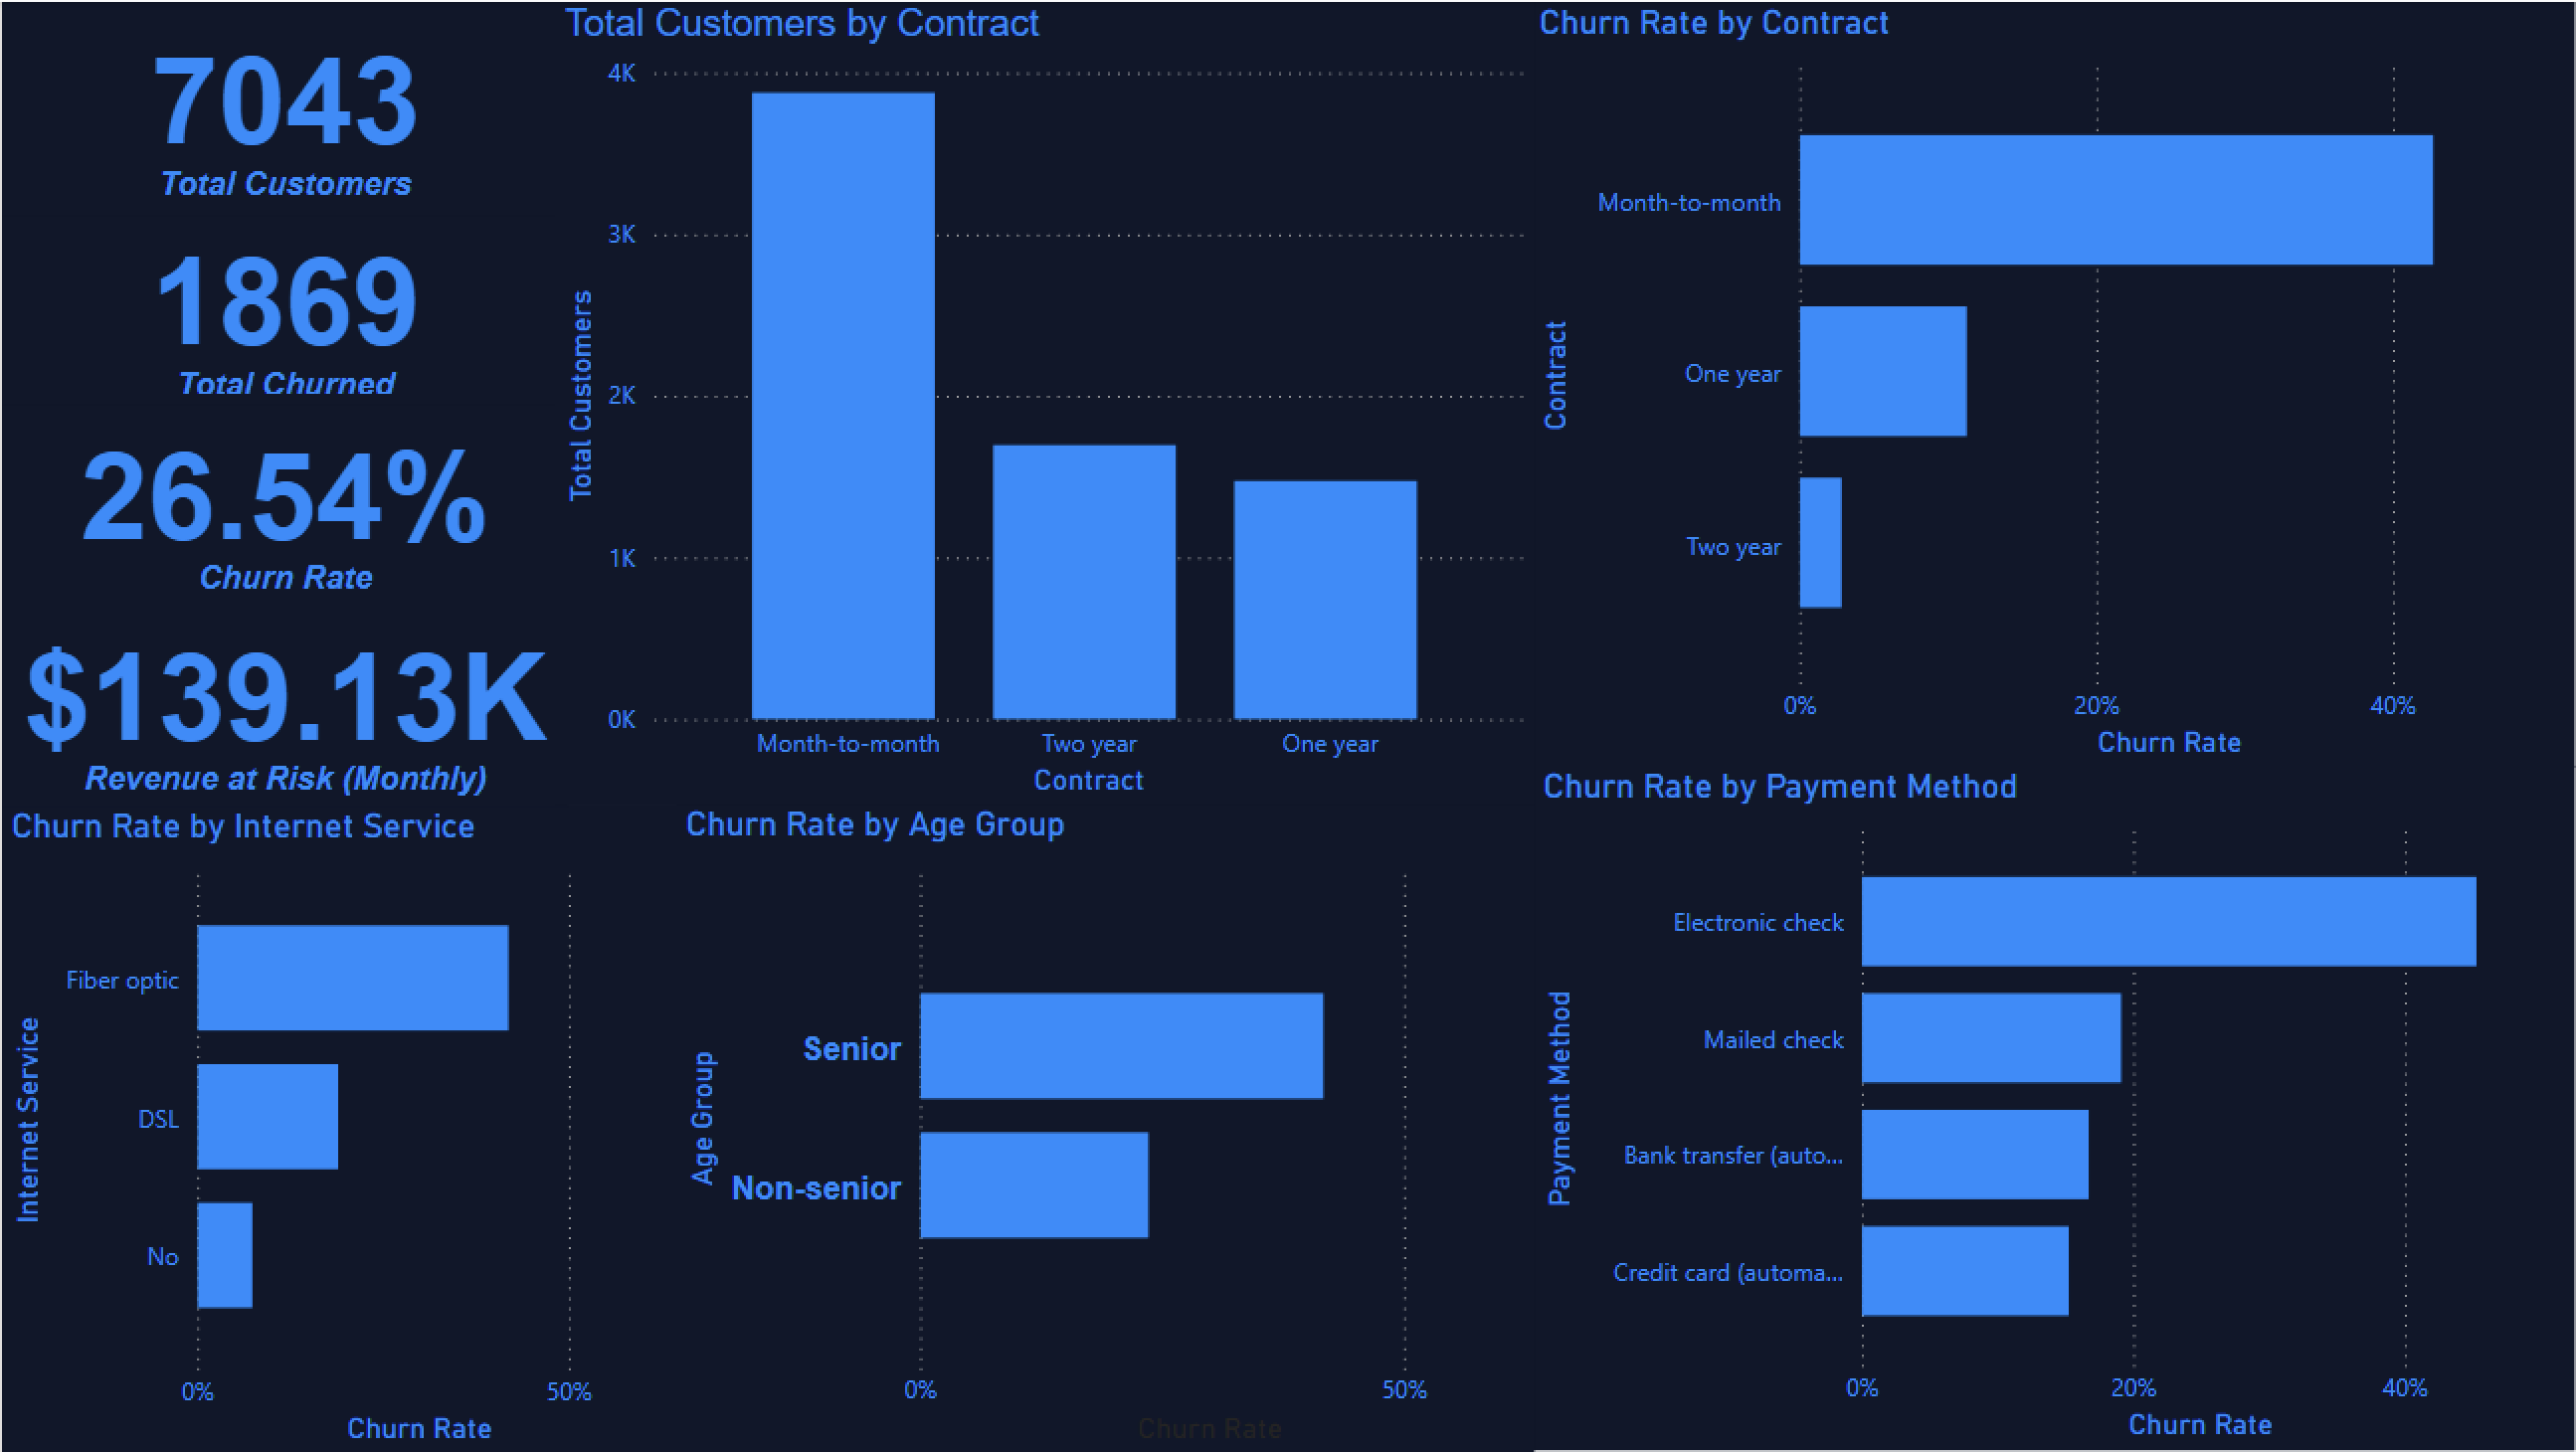

What the dashboard file says about the page in this screenshot:
{"tool":"powerbi","page":{"name":"Page 1","canvas":[1280,720],"ordinal":0},"visuals":[{"type":"clusteredBarChart","fields":{"Y":["public vw_analysis_ready.Churn Rate"],"Category":["public vw_analysis_ready.contract"]},"box":[758.2,0,519.3,380.3],"z":0},{"type":"clusteredBarChart","fields":{"Y":["public vw_analysis_ready.Churn Rate"],"Category":["public vw_analysis_ready.internetservice"]},"box":[0,398.6,335.2,321.8],"z":1000},{"type":"clusteredBarChart","fields":{"Y":["public vw_analysis_ready.Churn Rate"],"Category":["public vw_analysis_ready.paymentmethod"]},"box":[760.7,379.1,516.9,340.1],"z":2000},{"type":"clusteredBarChart","fields":{"Y":["public vw_analysis_ready.Churn Rate"],"Category":["public vw_analysis_ready.age_group"]},"box":[334.8,398.2,426.3,322.8],"z":3000},{"type":"card","fields":{"Values":["public vw_analysis_ready.Churn Rate"]},"box":[0,199.5,281.5,98.8],"z":4000},{"type":"card","fields":{"Values":["public vw_analysis_ready.Total Churned"]},"box":[0,105.7,281.5,93.8],"z":5000},{"type":"card","fields":{"Values":["public vw_analysis_ready.Total Customers"]},"box":[0,0,281.5,105.7],"z":6000},{"type":"card","fields":{"Values":["public vw_analysis_ready.Revenue at Risk (Monthly)"]},"box":[0,298.3,281.5,100.7],"z":7000},{"type":"lineClusteredColumnComboChart","fields":{"Y":["public vw_analysis_ready.Total Customers"],"Category":["public vw_analysis_ready.contract"]},"box":[274.6,0,485.9,399],"z":8000}]}

Visuals, with their boxes in screenshot pixels (x1, y1, x2, y2), scaled from the page's 1280x720 canvas onto the 2576x1452 screenshot:
clusteredBarChart - public vw_analysis_ready.Churn Rate x public vw_analysis_ready.contract: <box>1526,0,2571,767</box>
clusteredBarChart - public vw_analysis_ready.Churn Rate x public vw_analysis_ready.internetservice: <box>0,804,674,1451</box>
clusteredBarChart - public vw_analysis_ready.Churn Rate x public vw_analysis_ready.paymentmethod: <box>1531,765,2571,1450</box>
clusteredBarChart - public vw_analysis_ready.Churn Rate x public vw_analysis_ready.age_group: <box>673,803,1532,1451</box>
card - public vw_analysis_ready.Churn Rate: <box>0,403,567,602</box>
card - public vw_analysis_ready.Total Churned: <box>0,213,567,403</box>
card - public vw_analysis_ready.Total Customers: <box>0,0,567,213</box>
card - public vw_analysis_ready.Revenue at Risk (Monthly): <box>0,602,567,805</box>
lineClusteredColumnComboChart - public vw_analysis_ready.Total Customers x public vw_analysis_ready.contract: <box>553,0,1531,805</box>
